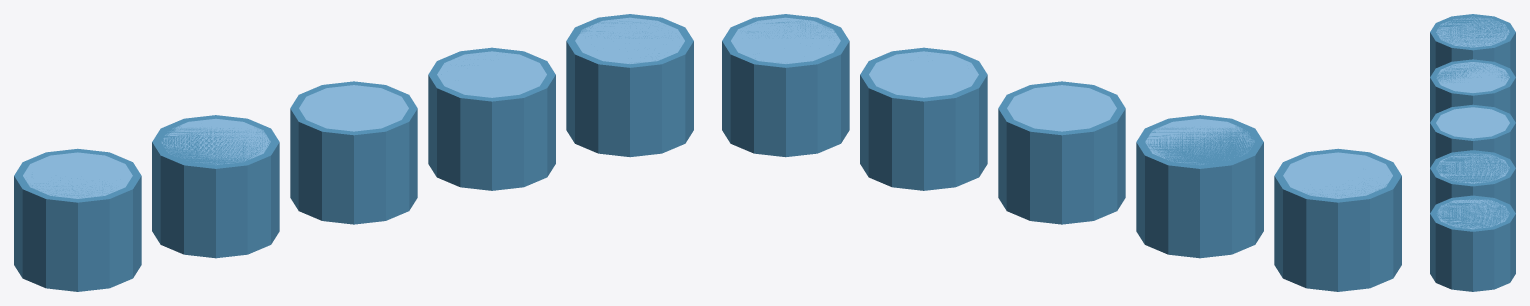
Rendered from PR_WaterBuckets.glb.
The picture shows the model from 3 angles, left to right: view 1: azimuth 30°, elevation 25°; view 2: azimuth 150°, elevation 25°; view 3: azimuth 270°, elevation 25°; orthographic projection. The views are drawn at different scales.
Parts seen in each view (by area): view 1: PR_WaterBuckets; view 2: PR_WaterBuckets; view 3: PR_WaterBuckets.
Boxes of the visible parts, x1,y1,x2,y2 form: PR_WaterBuckets: (14, 14, 693, 291); PR_WaterBuckets: (722, 14, 1401, 291); PR_WaterBuckets: (1430, 14, 1515, 291).
Bounding box in the file's own units: 2.64 × 0.34 × 0.44.
